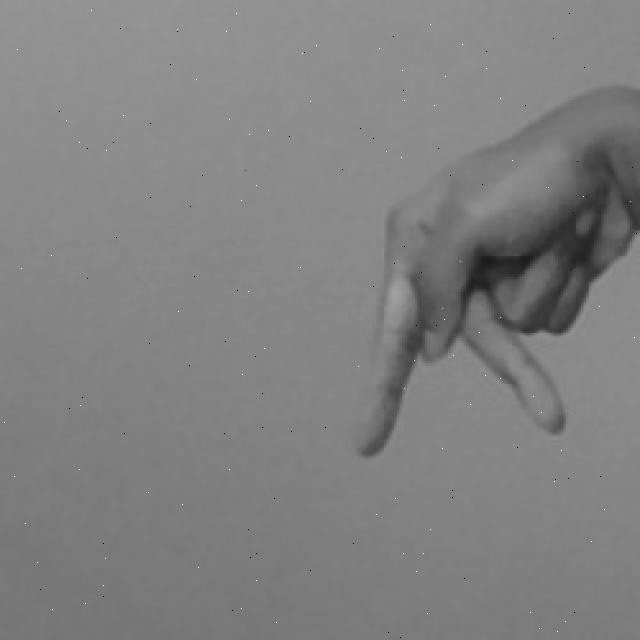P: (340, 74, 640, 468)
